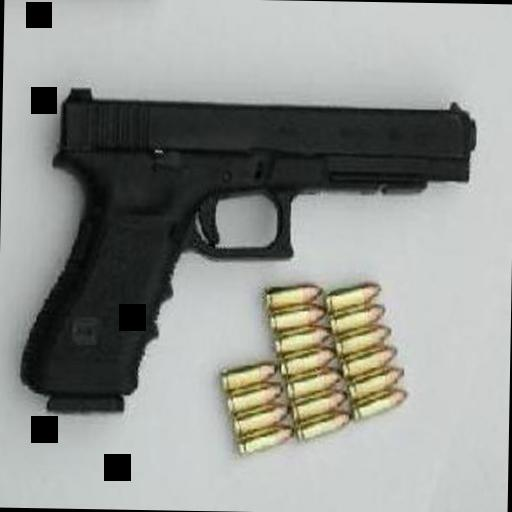Handgun: (18, 91, 473, 426)
